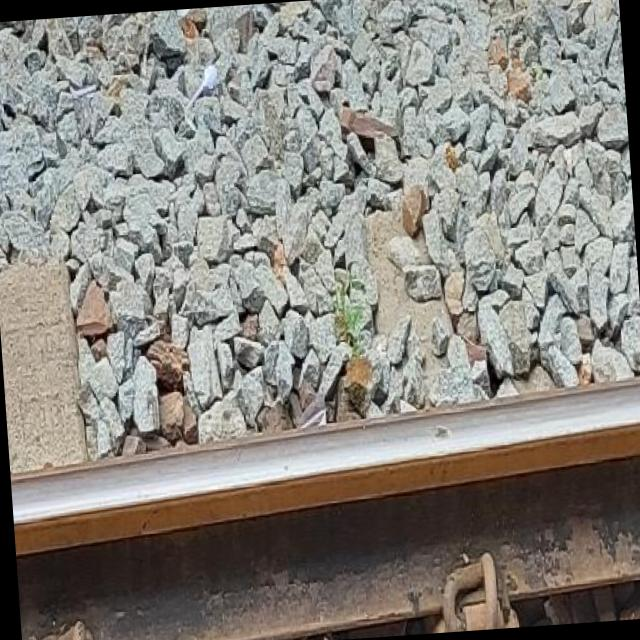non-defective: (3, 326, 640, 636)
